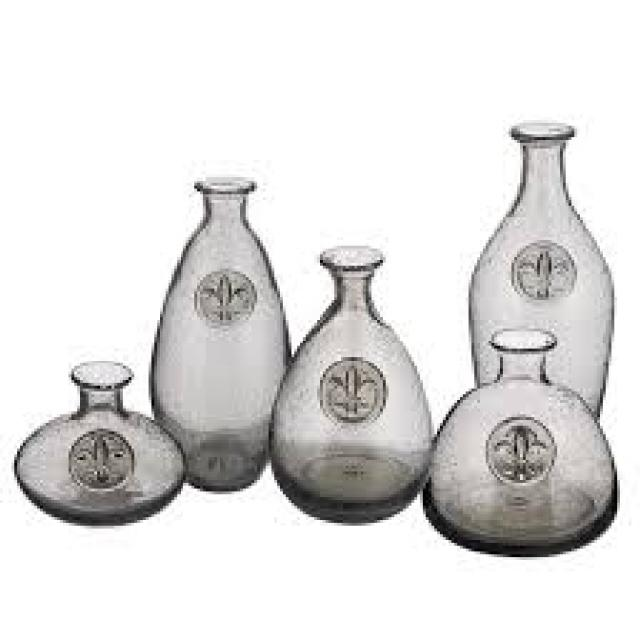Glass-Non-Biodegradable but Recyclable-: (11, 130, 616, 555)
